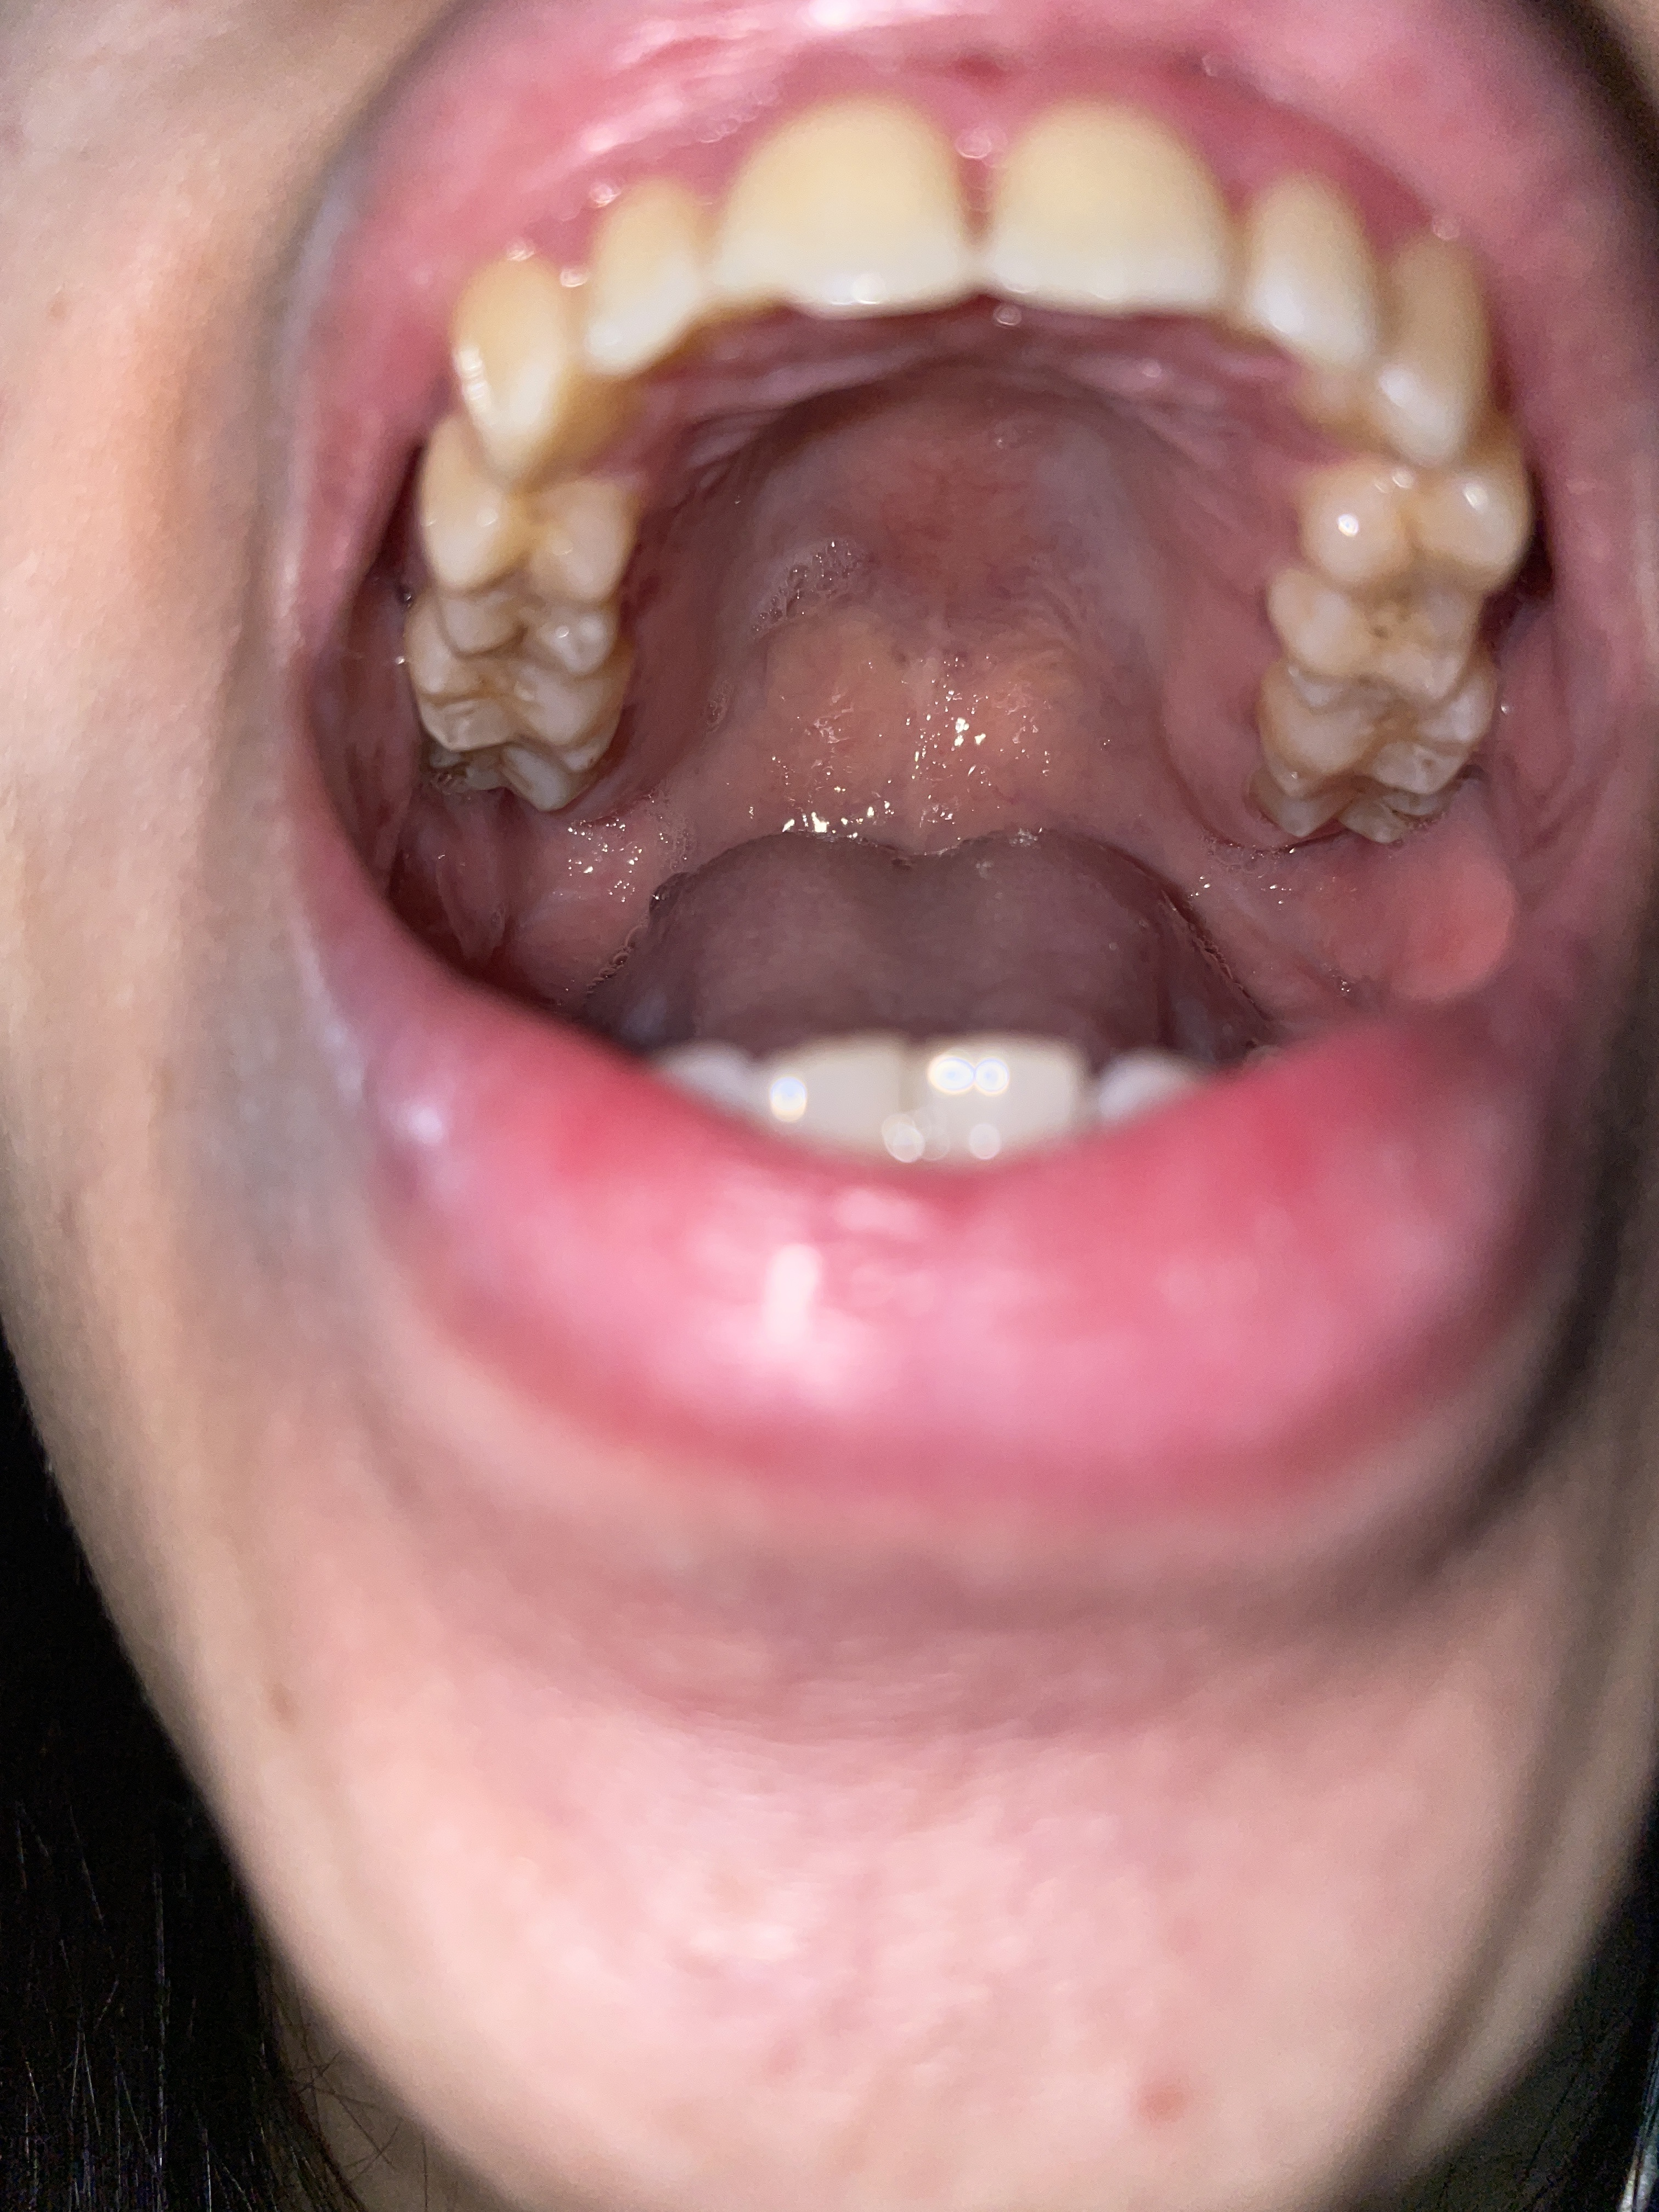teeth: (721, 89, 962, 310), (455, 249, 631, 482), (993, 117, 1202, 305), (415, 423, 627, 594), (1351, 246, 1506, 463), (1328, 442, 1514, 590), (1256, 583, 1480, 707), (1256, 164, 1380, 378), (432, 688, 622, 812), (591, 199, 701, 385), (423, 596, 615, 697)
